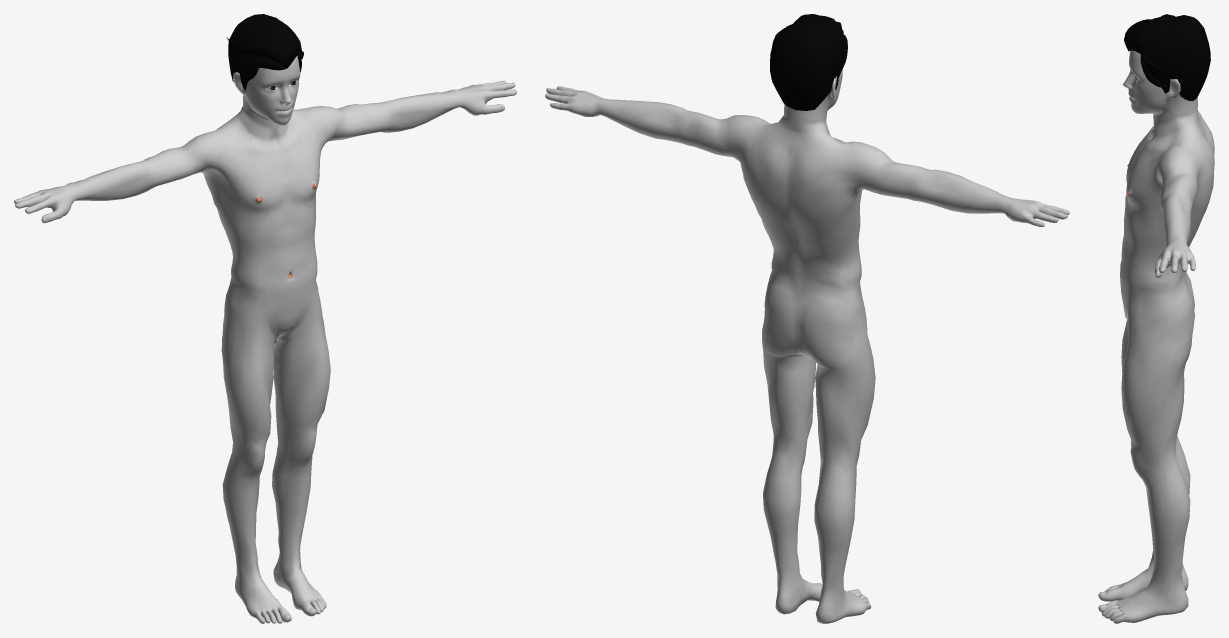
File: Male_body.fbx
3 views of the same model, side by side, from view 1: azimuth 30°, elevation 25°; view 2: azimuth 150°, elevation 25°; view 3: azimuth 270°, elevation 25° (orthographic). The views are drawn at different scales.
Visible parts, largest first — view 1: Body, Hair; view 2: Body, Hair; view 3: Body, Hair.
Boxes of the visible parts, bbox=[...] form: Body: bbox=[14, 55, 516, 623]; Hair: bbox=[227, 14, 303, 90]; Body: bbox=[545, 68, 1069, 623]; Hair: bbox=[770, 14, 847, 110]; Body: bbox=[1098, 50, 1214, 623]; Hair: bbox=[1124, 14, 1210, 101].
Size of the model in its own units: 111 by 122 by 21.81.
